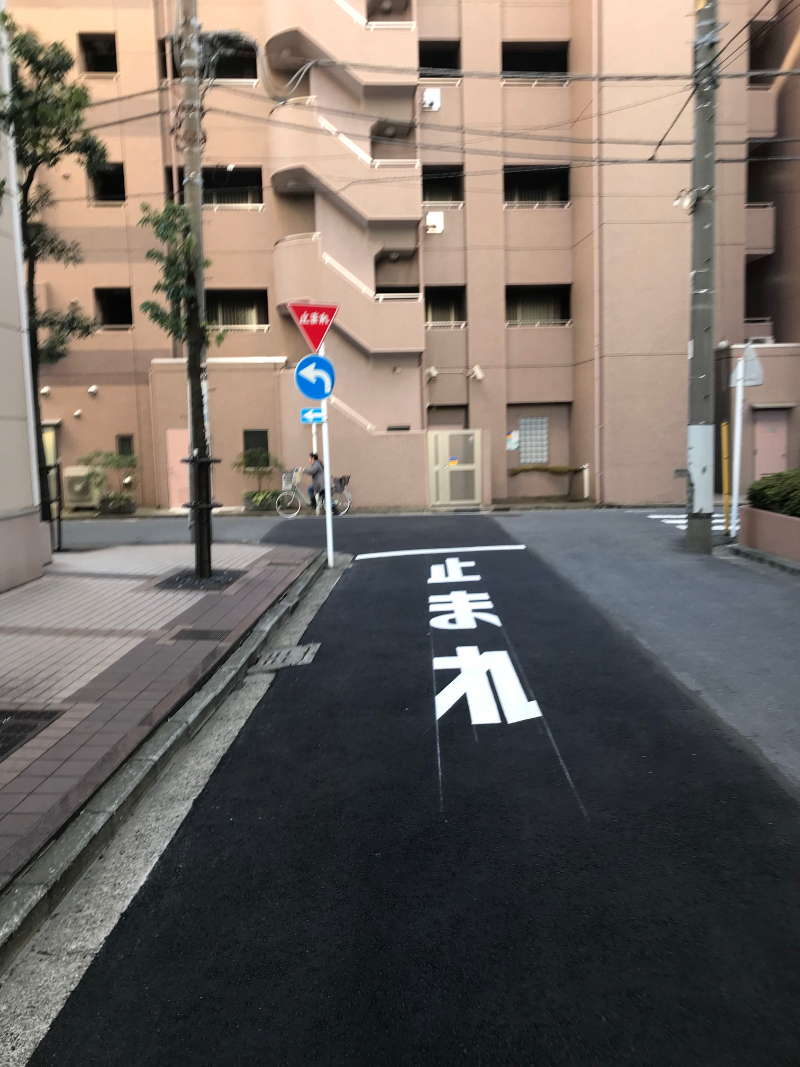STOP: (282, 299, 339, 353)
